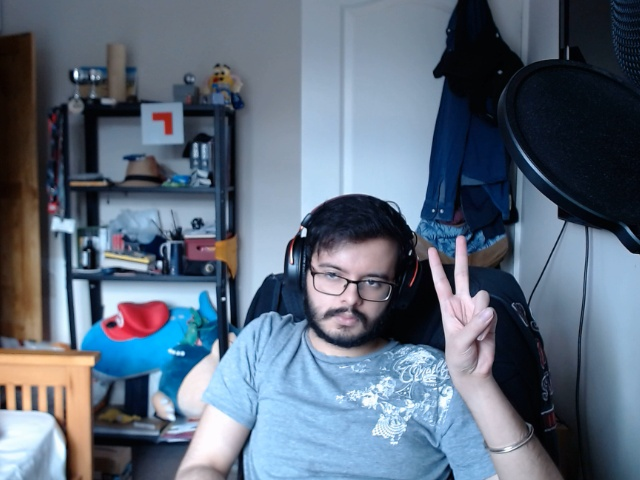Peace: (425, 232, 511, 393)
